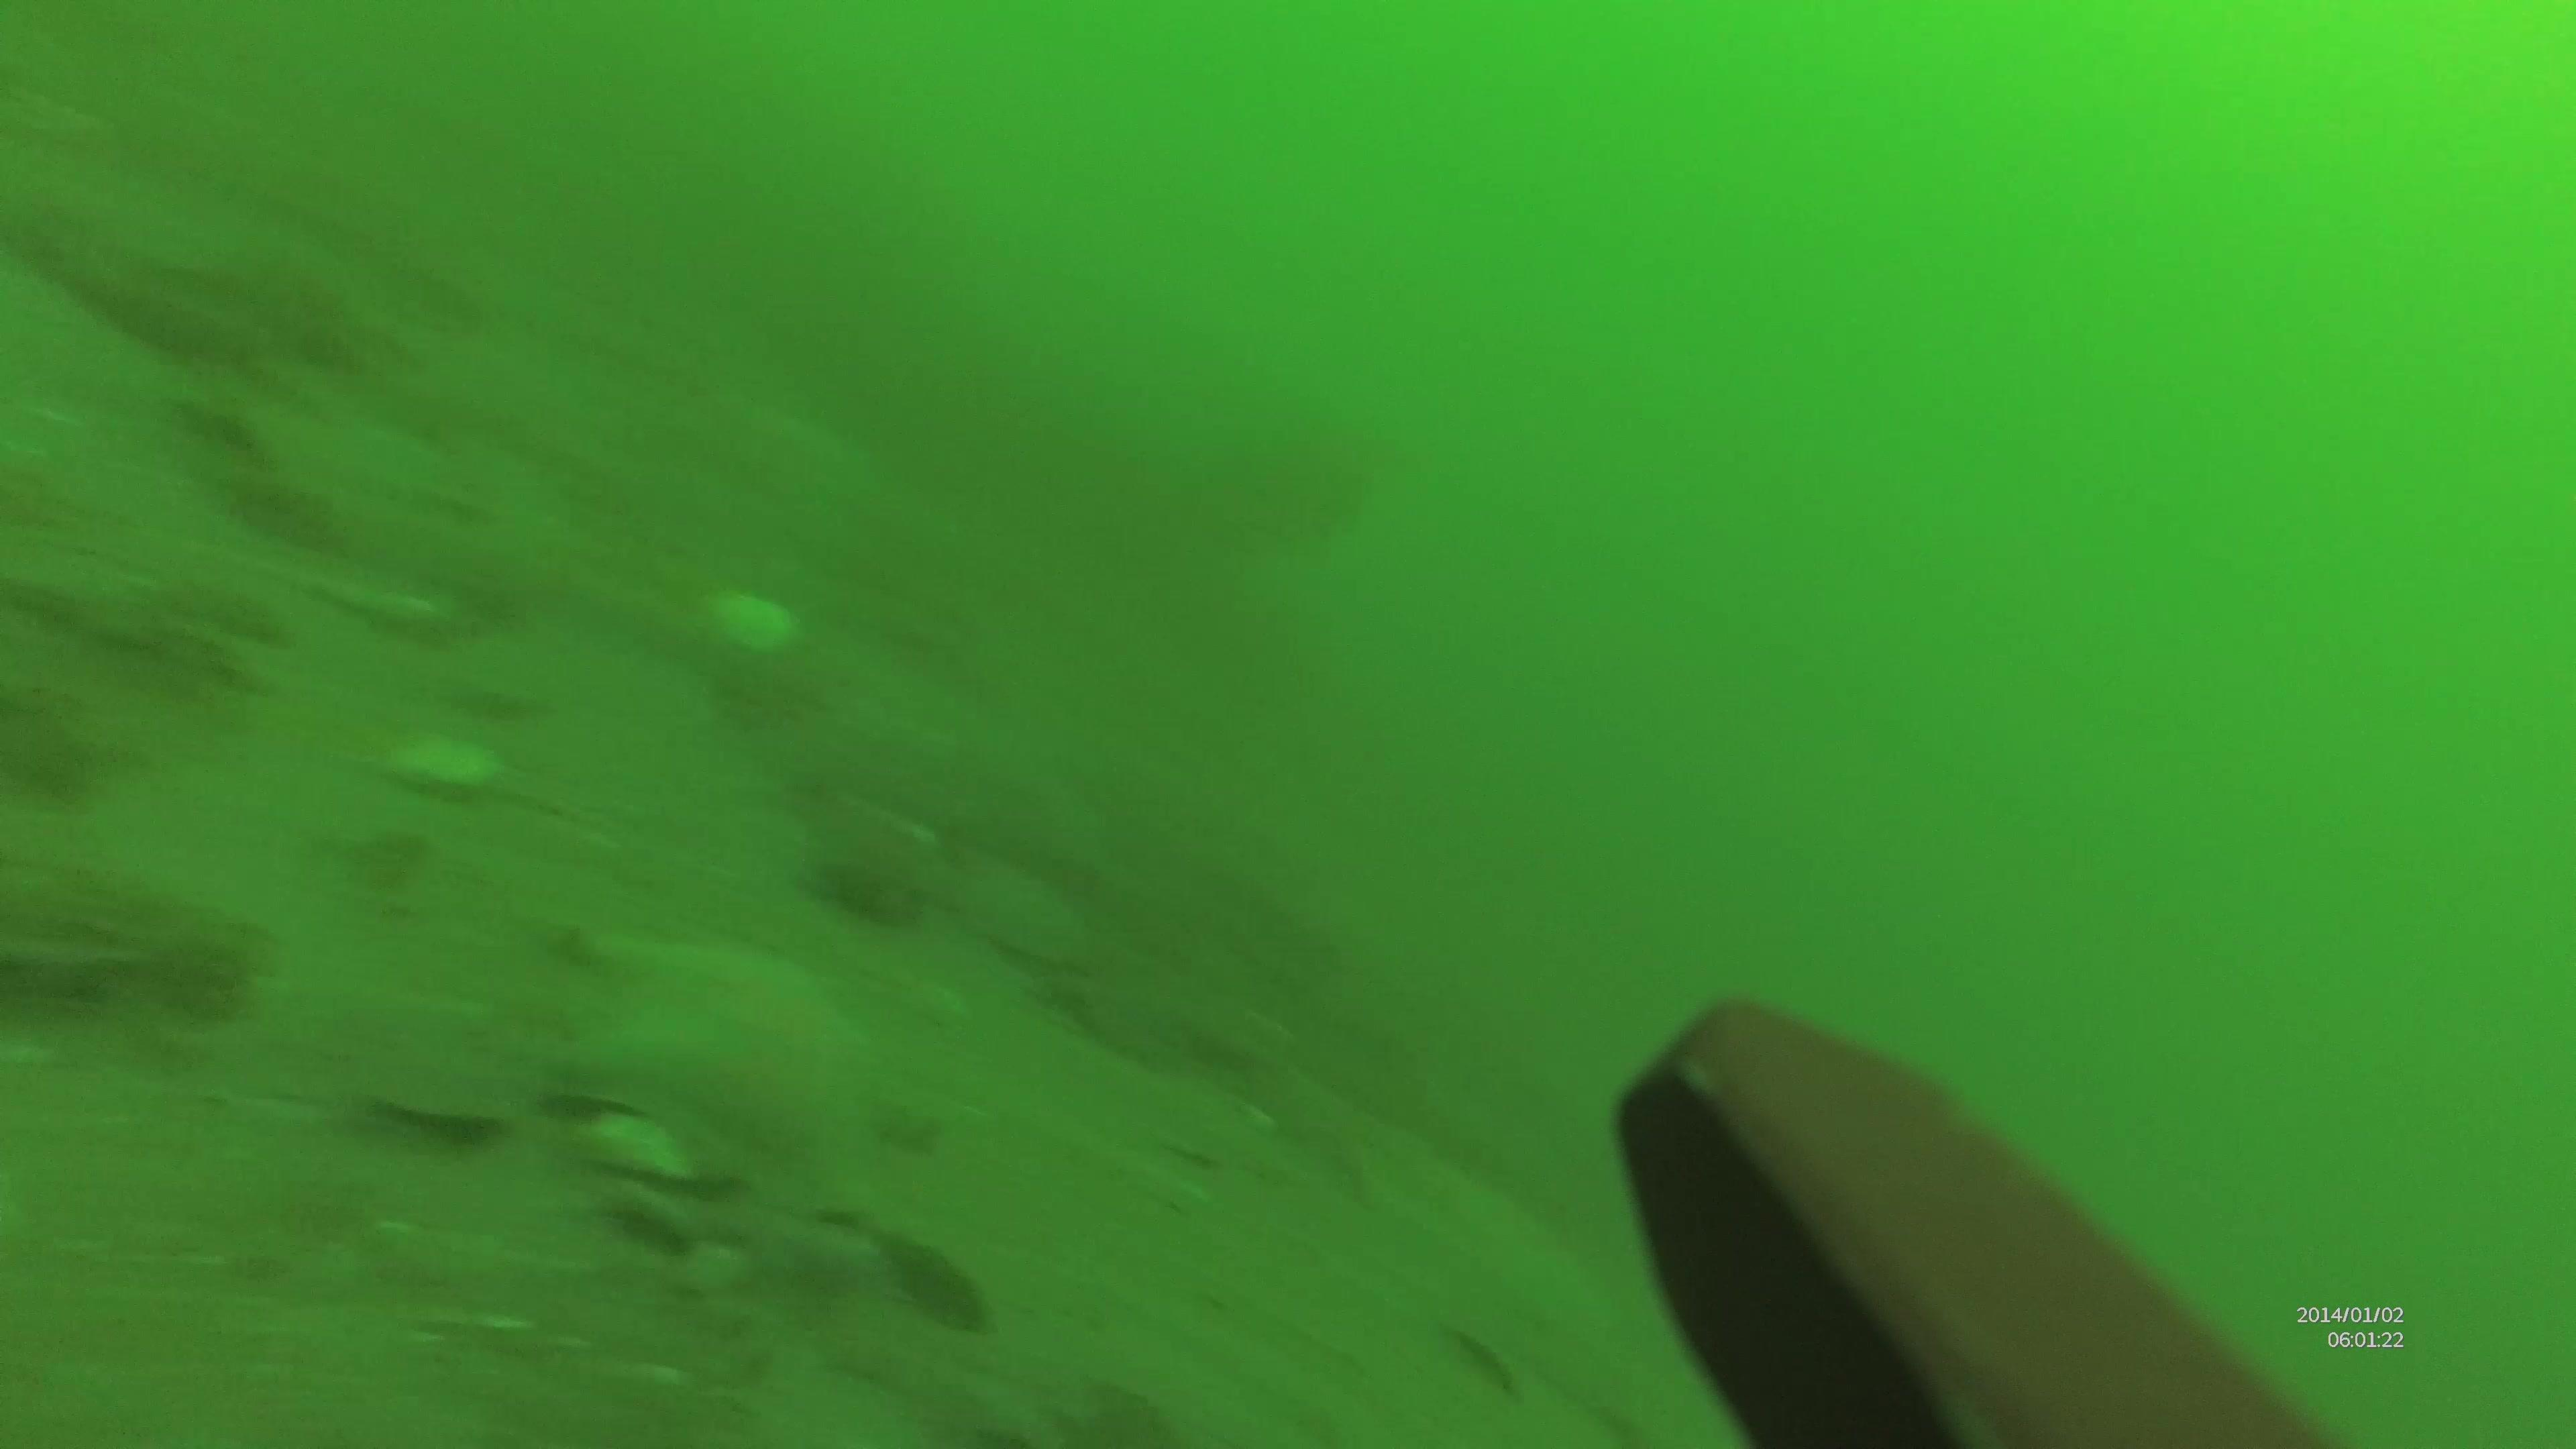starfish: (543, 920, 883, 1214)
